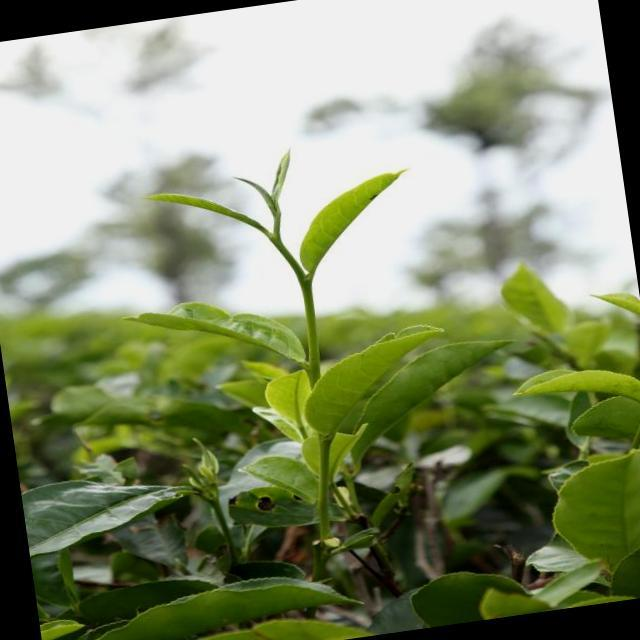Stem: (300, 284, 315, 315)
